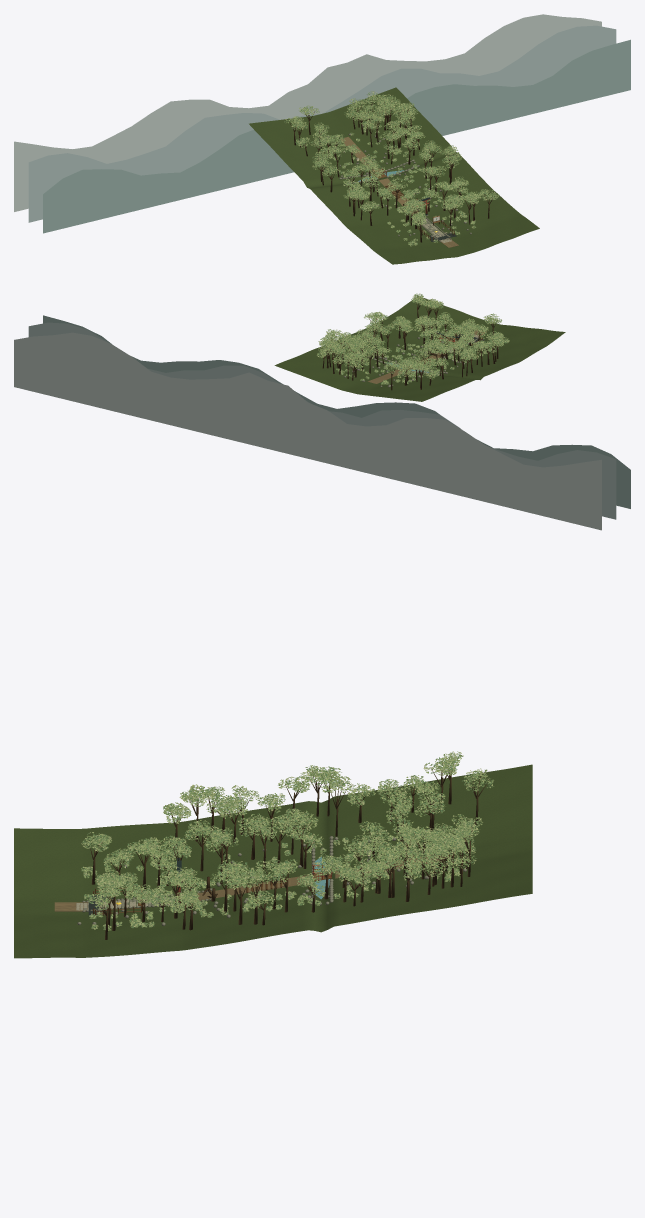
The model's file is shrine_learning.glb.
3 views of the same model, one above another, from view 1: azimuth 30°, elevation 25°; view 2: azimuth 150°, elevation 25°; view 3: azimuth 270°, elevation 25° (orthographic). The views are drawn at different scales.
Parts seen in each view (by area): view 1: Environment, Environment_Mossy_Ground, Environment_Bark, Environment_Path_Sand, Environment_Granite; view 2: Environment, Environment_Mossy_Ground, Environment_Bark; view 3: Environment_Mossy_Ground, Environment, Environment_Bark, Environment_Path_Sand, Environment_Granite.
Part boxes in pixels (x1=…): Environment: x1=14, y1=14, x2=630, y2=246; Environment_Mossy_Ground: x1=249, y1=87, x2=539, y2=264; Environment_Bark: x1=289, y1=99, x2=492, y2=242; Environment_Path_Sand: x1=340, y1=136, x2=458, y2=247; Environment_Granite: x1=325, y1=125, x2=471, y2=242; Environment: x1=14, y1=293, x2=630, y2=530; Environment_Mossy_Ground: x1=274, y1=296, x2=565, y2=401; Environment_Bark: x1=321, y1=303, x2=500, y2=390; Environment_Mossy_Ground: x1=14, y1=764, x2=532, y2=958; Environment: x1=81, y1=751, x2=493, y2=930; Environment_Bark: x1=90, y1=758, x2=487, y2=939; Environment_Path_Sand: x1=54, y1=854, x2=450, y2=911; Environment_Granite: x1=77, y1=836, x2=466, y2=925.
Size of the model in its own units: 210 by 25.96 by 106.
31 materials, 12 textured.
